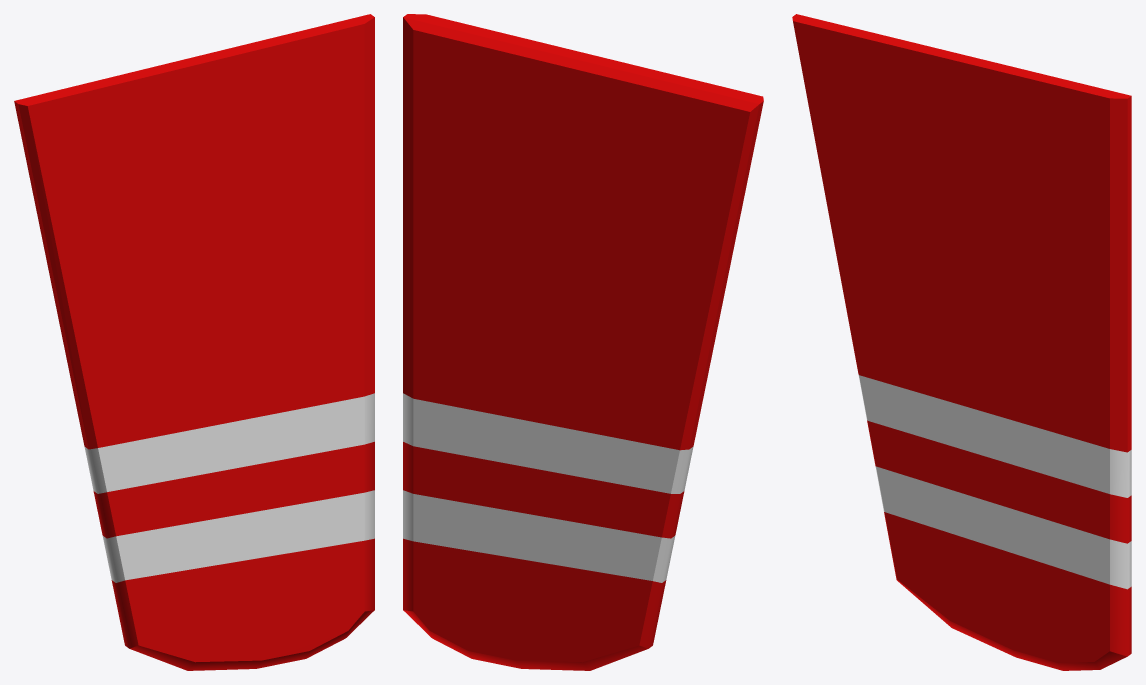
The model's file is Ala.fbx.
3 renders of one model, left to right at view 1: azimuth 30°, elevation 25°; view 2: azimuth 150°, elevation 25°; view 3: azimuth 330°, elevation 25°, orthographic. The views are drawn at different scales.
Parts seen in each view (by area): view 1: Box001; view 2: Box001; view 3: Box001.
Part boxes in pixels (x1=…): Box001: x1=14, y1=14, x2=374, y2=670; Box001: x1=403, y1=14, x2=763, y2=670; Box001: x1=792, y1=14, x2=1131, y2=670.
Size of the model in its own units: 2.54 by 4.25 by 0.1602.
